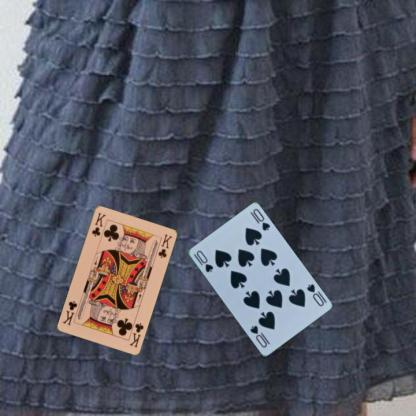10s: (191, 248, 214, 274), (304, 281, 325, 307)
Kc: (127, 320, 145, 348), (89, 210, 107, 237)
